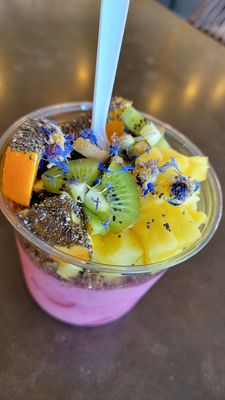curry: (82, 172, 141, 236)
sushi: (0, 98, 222, 326)
